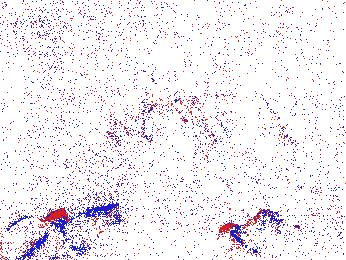flame jellyfish: (41, 201, 126, 260), (214, 208, 301, 260), (1, 216, 58, 260)
